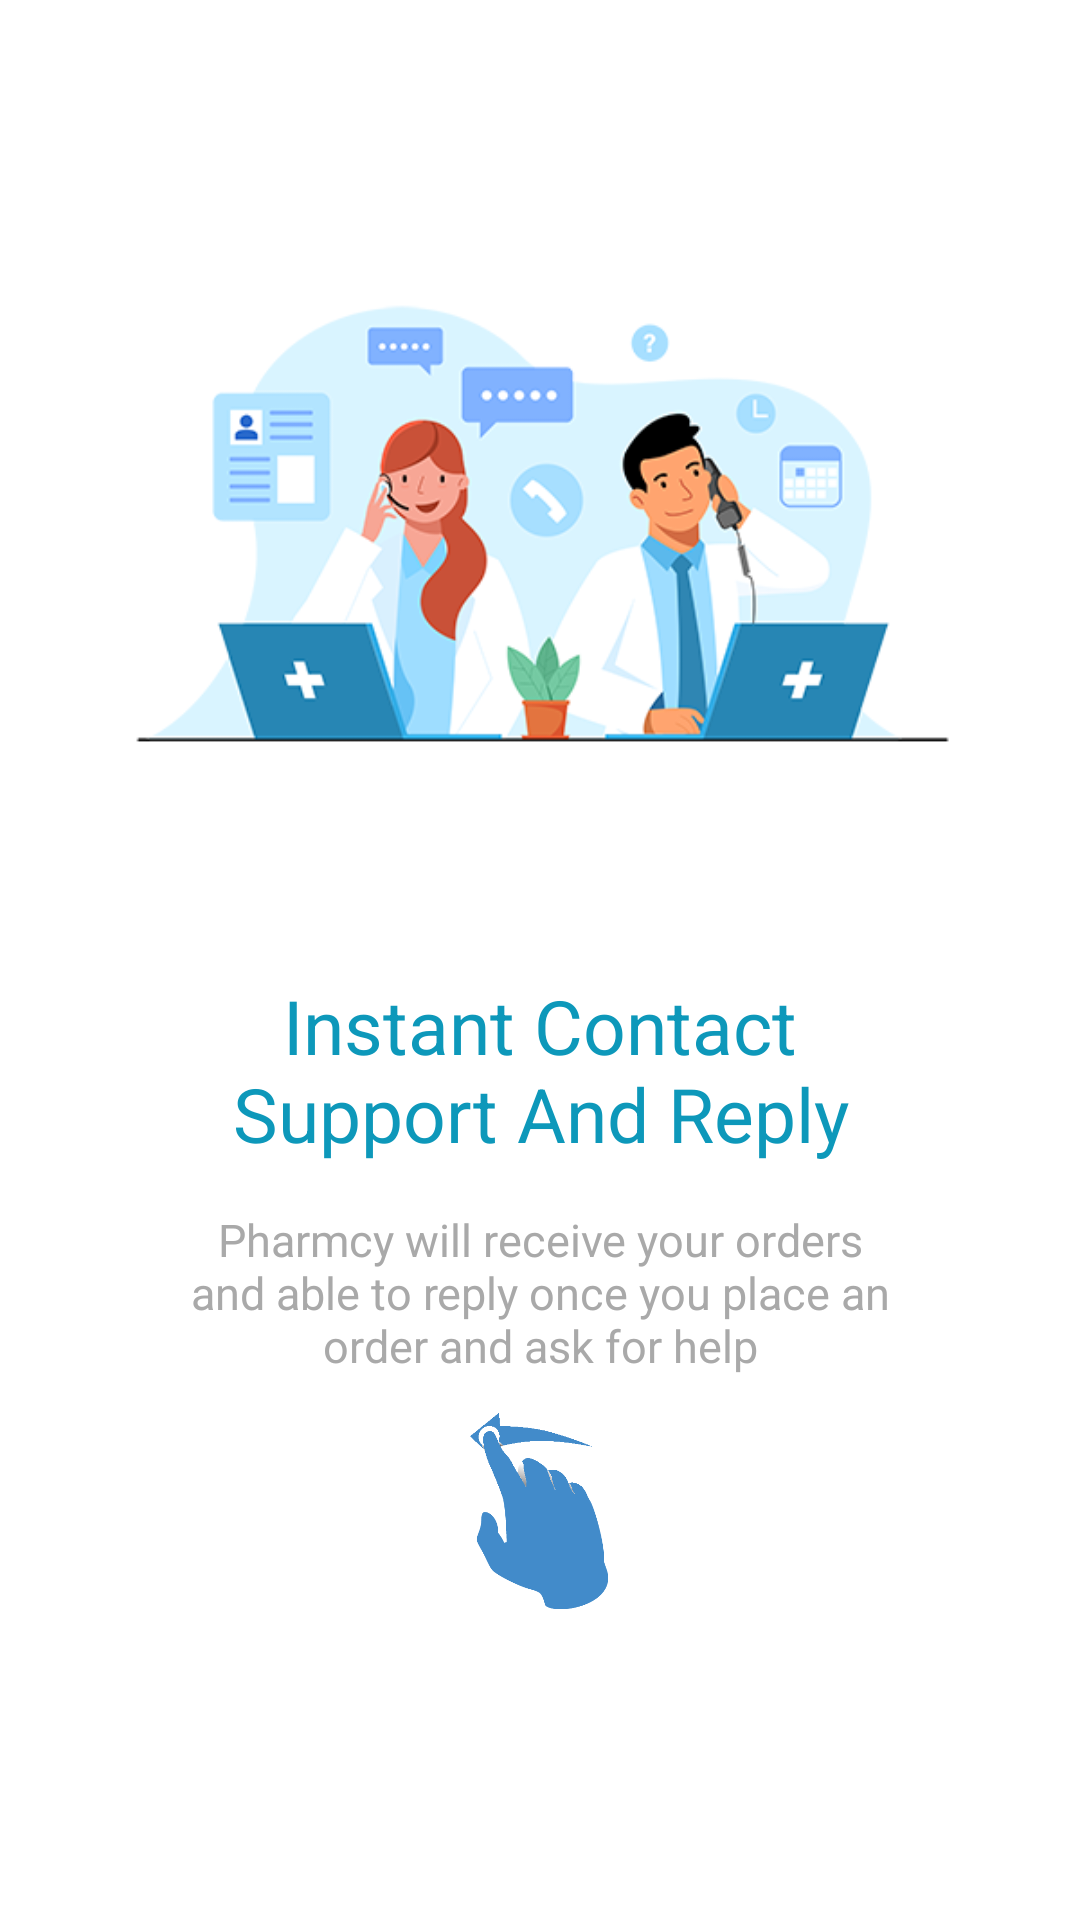

Named icons in this screenshot (1080 x 1920) and their centers, (x,y):
swipe: (539,1511)
